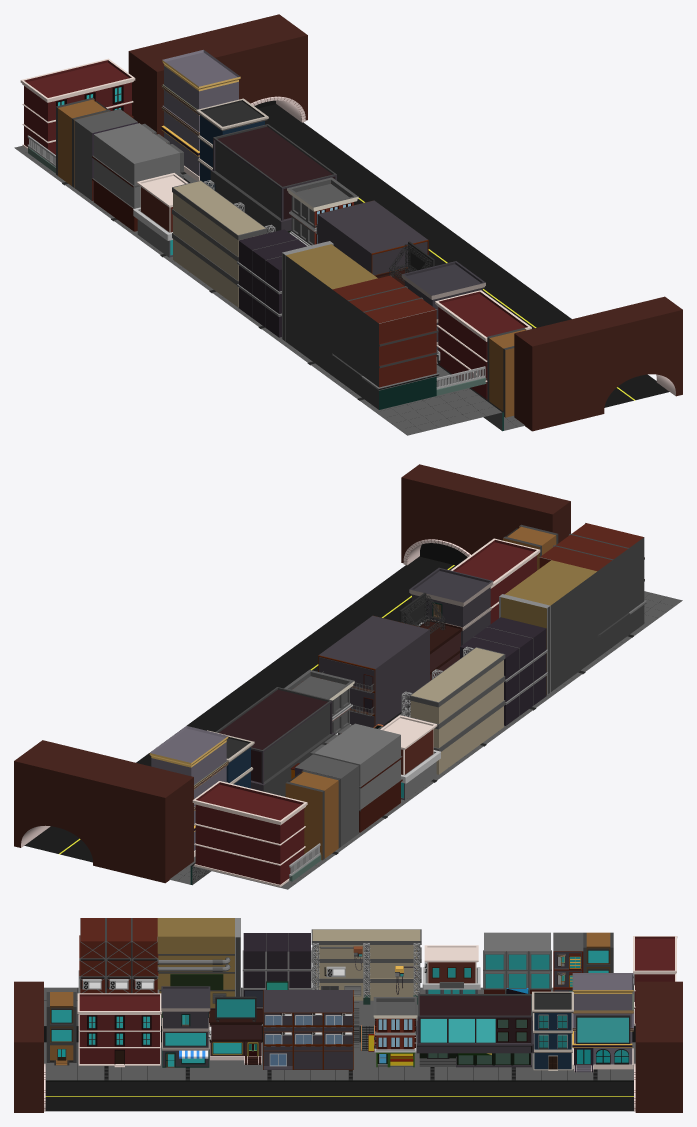
File: HimikStreetWholeTest.fbx
The picture shows the model from 3 angles, top to bottom: view 1: azimuth 30°, elevation 25°; view 2: azimuth 150°, elevation 25°; view 3: azimuth 270°, elevation 25°; orthographic projection. The views are drawn at different scales.
Visible parts, largest first — view 1: PropBuilding8(Abandoned)_Body, Tunnel, Tunnel.001, TwoWay_Road, CorpBuilding_Body, PropBulding6_Body, PropBulding4_Body, PropBulding3_Body, SideWalk.001, PropBuilding1_Body.001, JonasApartment_Body, PropBuilding1_Body (+9 smaller); view 2: Tunnel.001, PropBuilding8(Abandoned)_Body, Tunnel, TwoWay_Road, PropBuilding1_Body.001, JonasApartment_Body, PropBulding6_Body, CorpBuilding_Body, PropBulding4_Body, PropBuilding10, GeneralStore_Body, PropBulding3_Body (+10 smaller); view 3: TwoWay_Road, PropBuilding8(Abandoned)_Body, SideWalk, CorpBuilding_Body, Tunnel.001, PropBulding6_Body, JonasApartment_Body, PropBuilding1_Body, PropBulding4_Body, Tunnel, PropBuilding10, PropBulding3_Body (+23 smaller).
Part boxes in pixels (x1,y1,x2,y2): PropBuilding8(Abandoned)_Body: (282,241,439,409); Tunnel: (514,296,682,431); Tunnel.001: (128,14,307,137); TwoWay_Road: (254,100,669,407); CorpBuilding_Body: (210,124,336,232); PropBulding6_Body: (172,180,266,307); PropBulding4_Body: (92,123,183,231); PropBulding3_Body: (161,49,240,180); SideWalk.001: (14,145,503,435); PropBuilding1_Body.001: (20,58,135,154); JonasApartment_Body: (317,200,428,275); PropBuilding1_Body: (435,290,531,399); Tunnel.001: (14,740,193,883); PropBuilding8(Abandoned)_Body: (499,523,646,694); Tunnel: (401,464,570,565); TwoWay_Road: (24,543,467,862); PropBuilding1_Body.001: (192,781,307,887); JonasApartment_Body: (318,615,429,727); PropBulding6_Body: (409,647,505,774); CorpBuilding_Body: (215,687,334,796); PropBulding4_Body: (310,723,402,832); PropBuilding10: (460,617,547,725); GeneralStore_Body: (409,567,493,645); PropBulding3_Body: (149,726,228,856); TwoWay_Road: (45,1082,633,1111); PropBuilding8(Abandoned)_Body: (78,918,240,1007); SideWalk: (44,1042,635,1080); CorpBuilding_Body: (416,994,533,1067); Tunnel.001: (634,981,682,1112); PropBulding6_Body: (311,929,421,1000); JonasApartment_Body: (263,990,353,1070); PropBuilding1_Body: (77,993,161,1067); PropBulding4_Body: (483,932,551,993); Tunnel: (14,981,45,1112); PropBuilding10: (242,933,311,1007); PropBulding3_Body: (572,973,633,1072).
Size of the model in its own units: 8537 by 3236 by 22187.
Materials: 106 (106 with a texture image).
